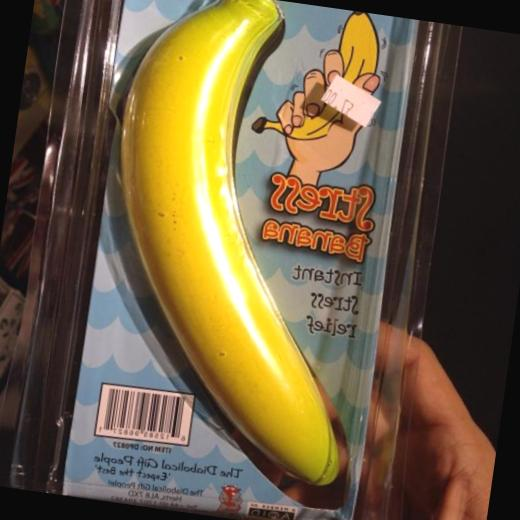Banana: (75, 0, 414, 500), (250, 0, 384, 146)
